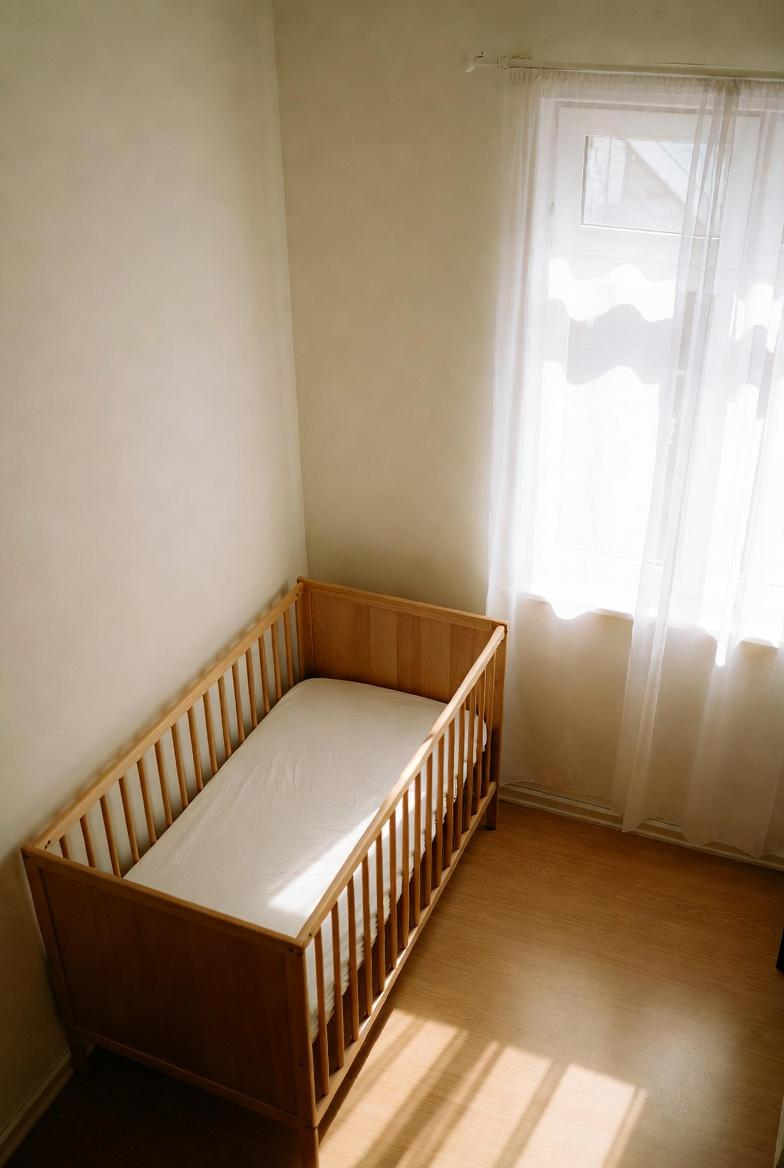crib: (13, 567, 525, 1168)
